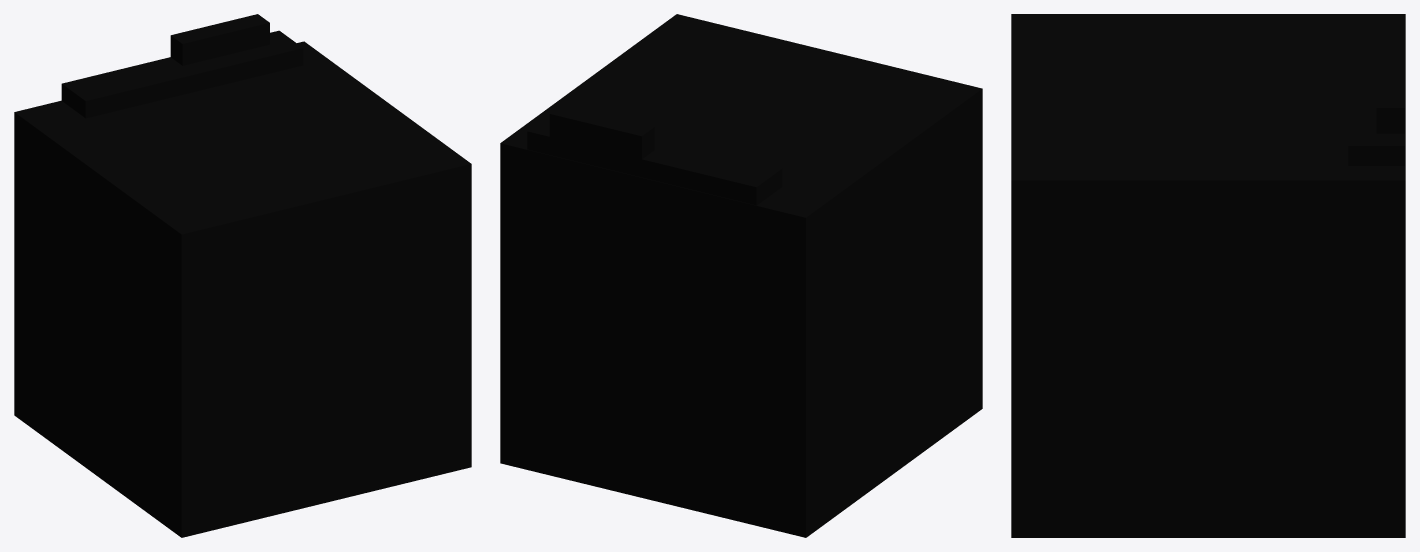
The model's file is hair-0006.gltf.
The picture shows the model from 3 angles, left to right: view 1: azimuth 30°, elevation 25°; view 2: azimuth 150°, elevation 25°; view 3: azimuth 270°, elevation 25°; orthographic projection. The views are drawn at different scales.
Visible parts, largest first — view 1: hair-0006-extra-geo (×3); view 2: hair-0006-extra-geo (×3); view 3: hair-0006-extra-geo (×3).
Part boxes in pixels (x1,y1,x2,y2): hair-0006-extra-geo (×3): (14,14,471,537); hair-0006-extra-geo (×3): (500,14,982,537); hair-0006-extra-geo (×3): (1011,14,1405,537).
Bounding box in the file's own units: 0.4263 × 0.4811 × 0.4263.
1 material, 1 textured.
